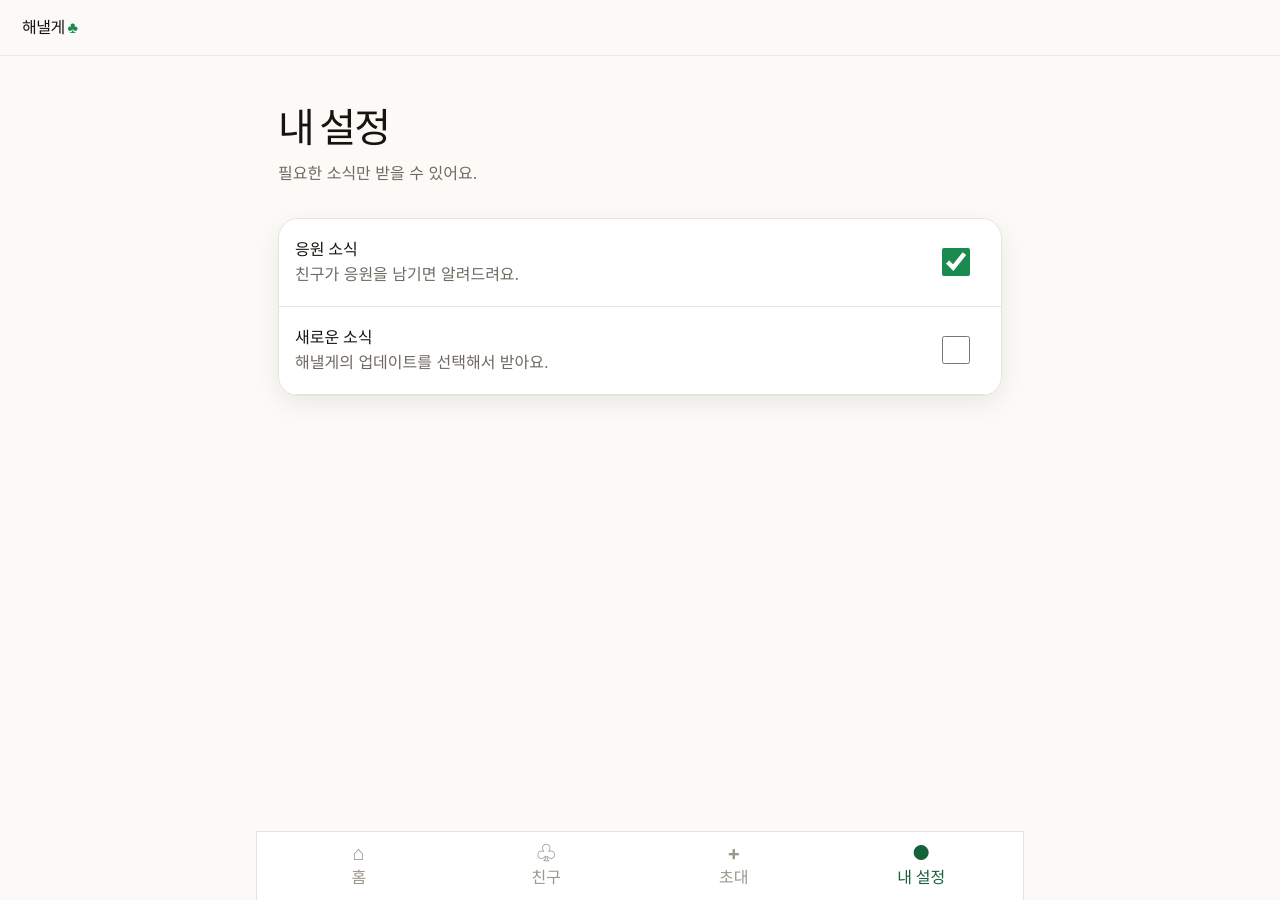
Test: 앱인토스 v0 계약 › TC-AIT-005 선호 설정은 명시적인 마케팅 동의를 저장한다
Click the checkbox labelled "새로운 소식 해낼게의 업데이트를 선택해서 받아요." at [956, 350], box [930,336,982,364]
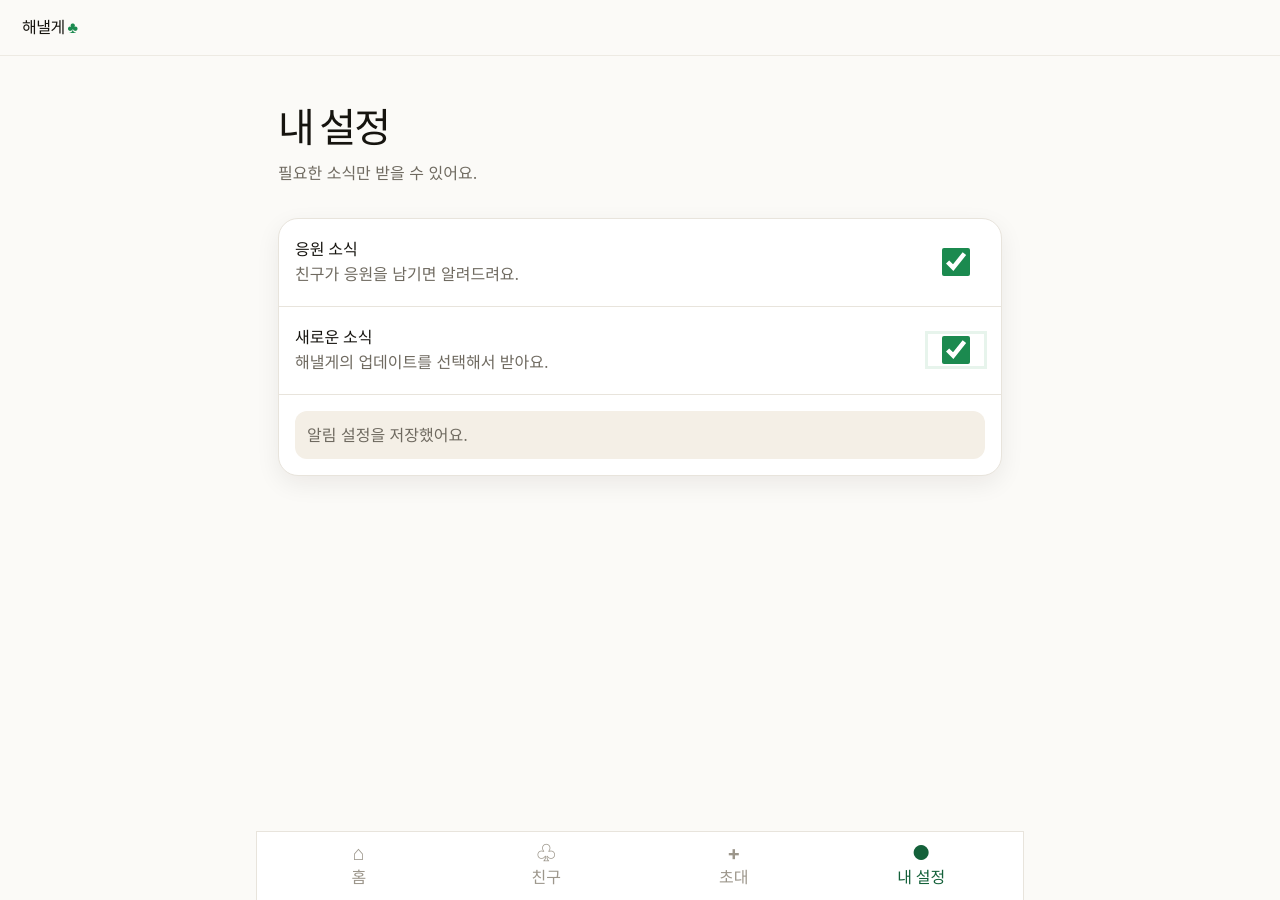
Expected: the checkbox labelled "새로운 소식 해낼게의 업데이트를 선택해서 받아요." is checked, [930,336,982,364]
Expected: the text "알림 설정을 저장했어요." is shown, [295,411,985,459]
